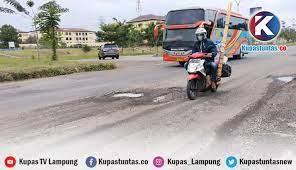Pothole: (152, 78, 198, 96), (270, 62, 296, 92), (94, 87, 146, 99)
